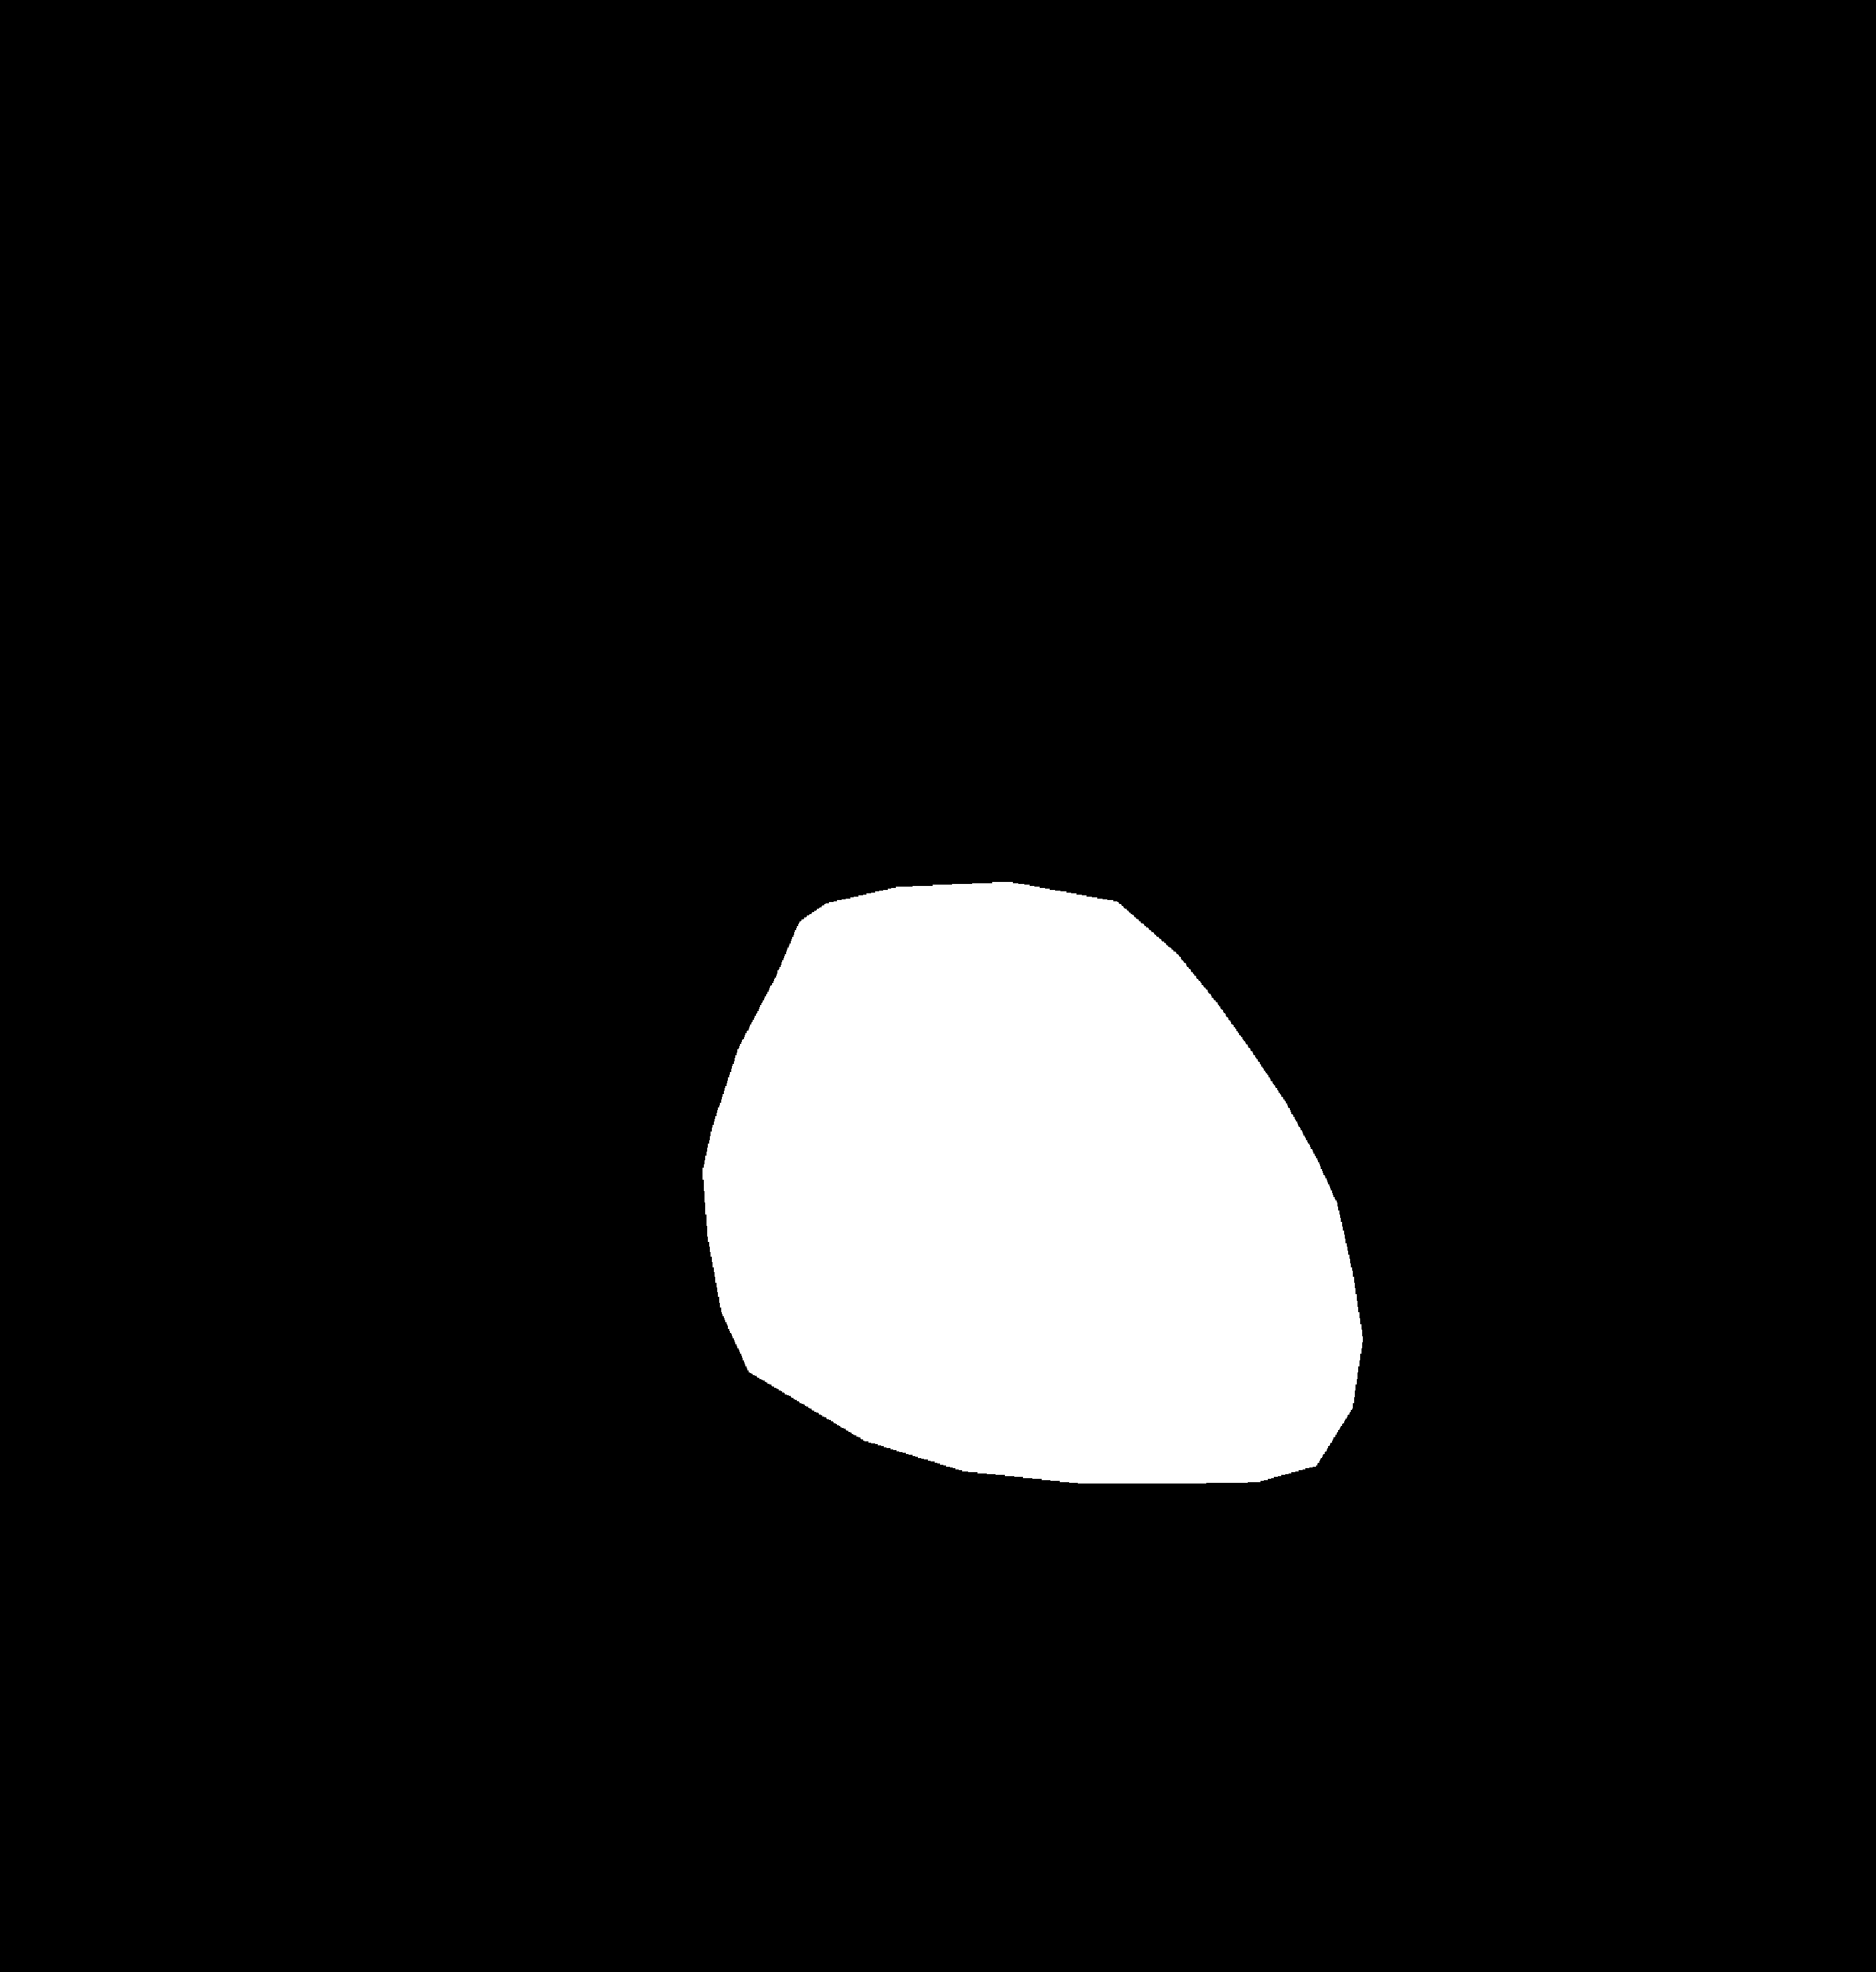heart: (704, 977, 1360, 1519)
left_lung: (220, 229, 859, 1512)
right_lung: (1010, 211, 1614, 1678)
